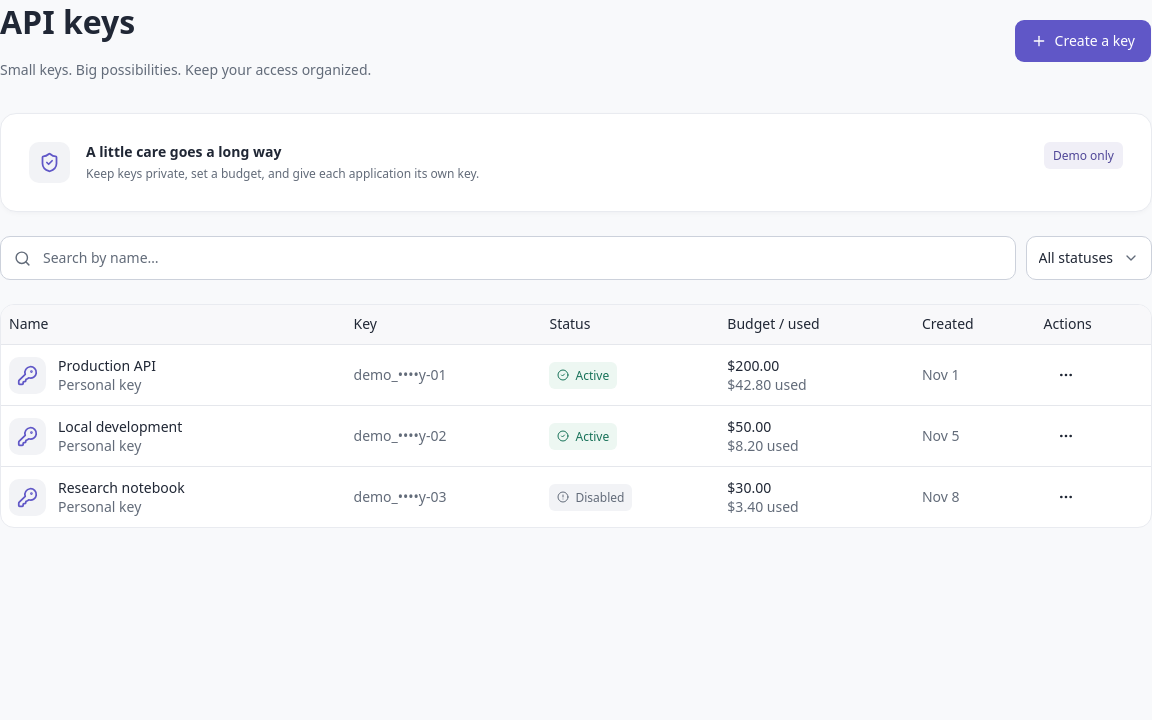
Test: Client key management preview › editing a personal key retains its fixed type without a redundant selector
Click the button named "Manage Production API" at (1066, 375), box [1044,353,1088,397]
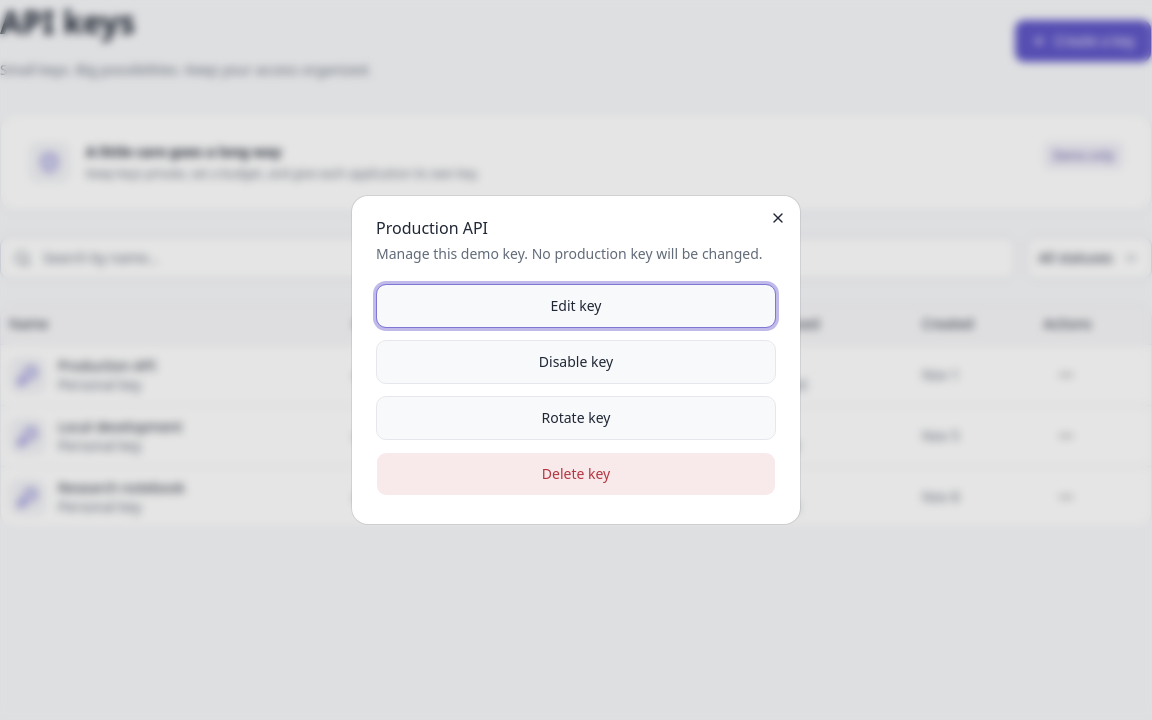
Click the button "Edit key" at (576, 306), box [376,284,776,328]
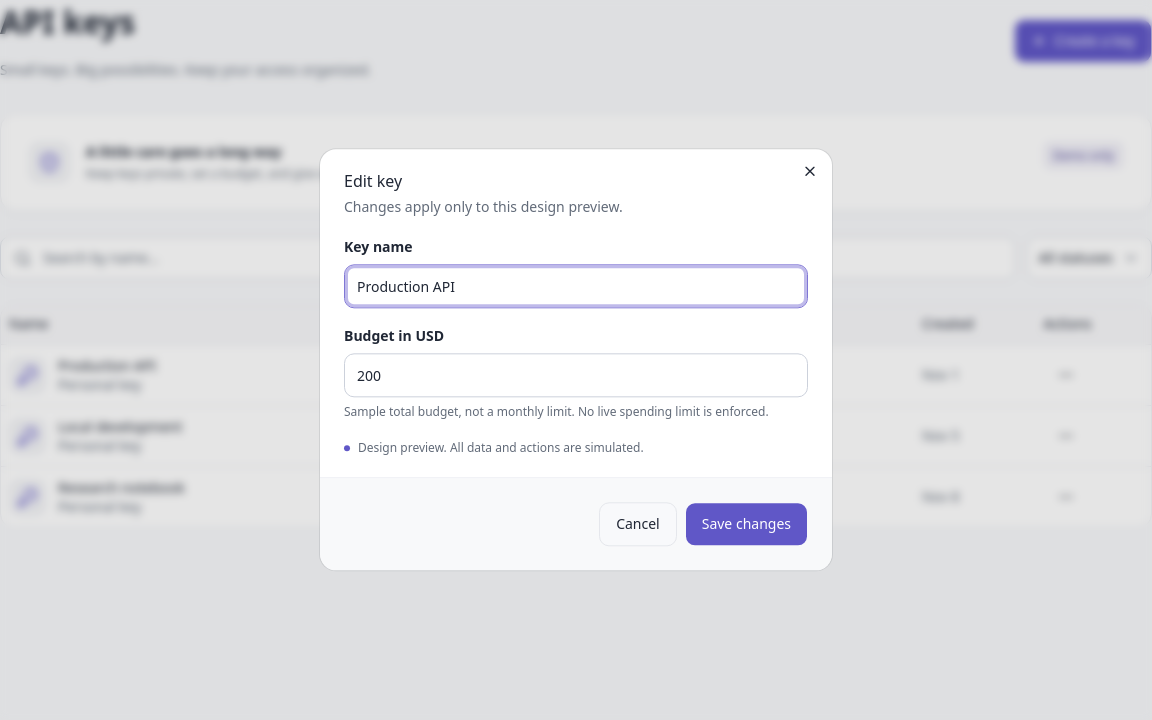
Replace the text in the field labelled "Key name" with "Updated personal key" at (576, 286), box [344,264,808,308]
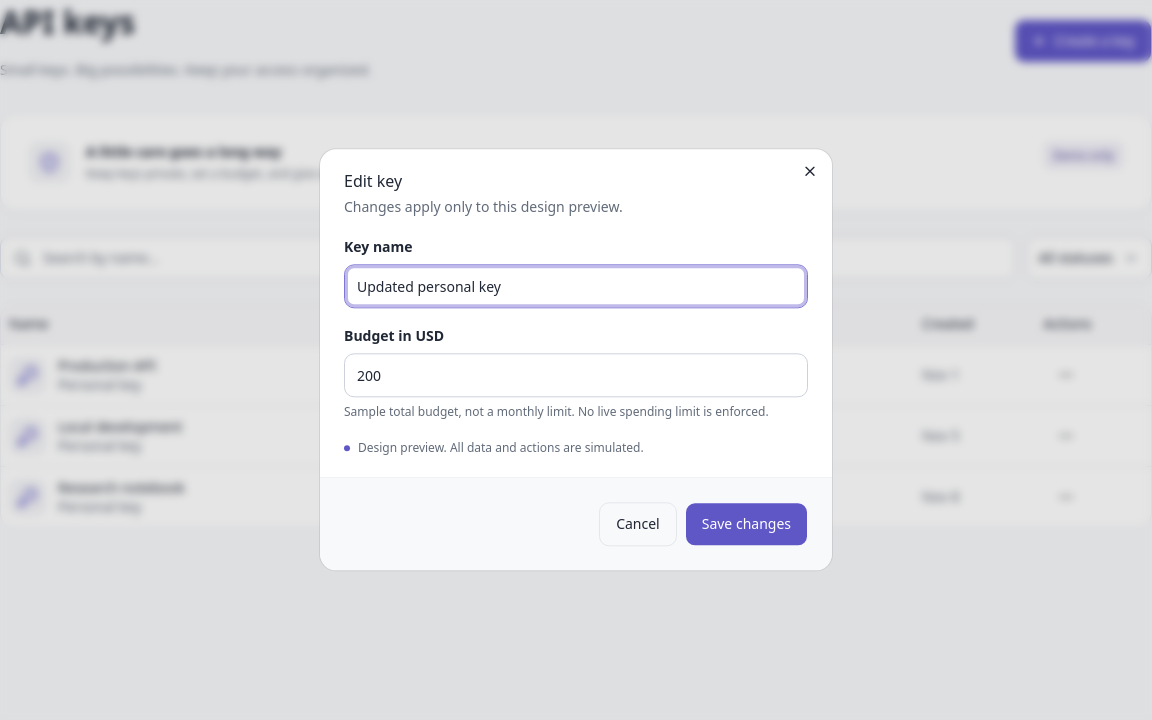
Click the button "Save changes" at (746, 525), box [685,503,808,547]
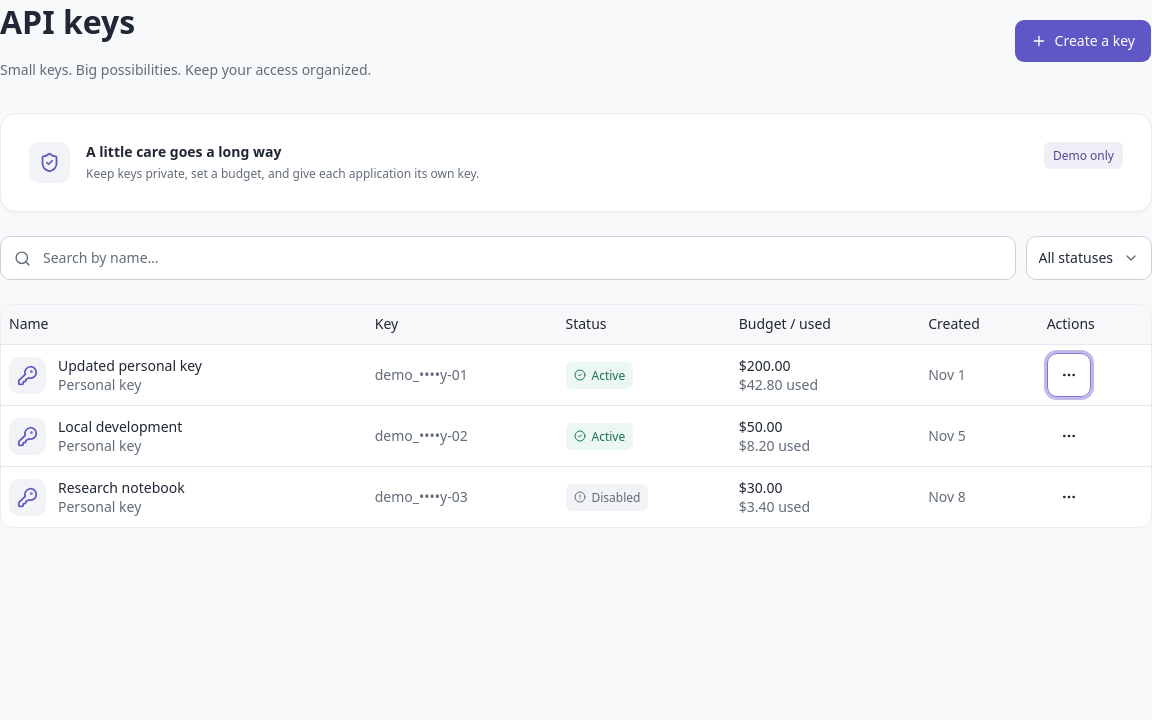
Expected: the text "Personal key" below "Updated personal key" is shown, [58,375,141,394]
Now the dialog is gone
